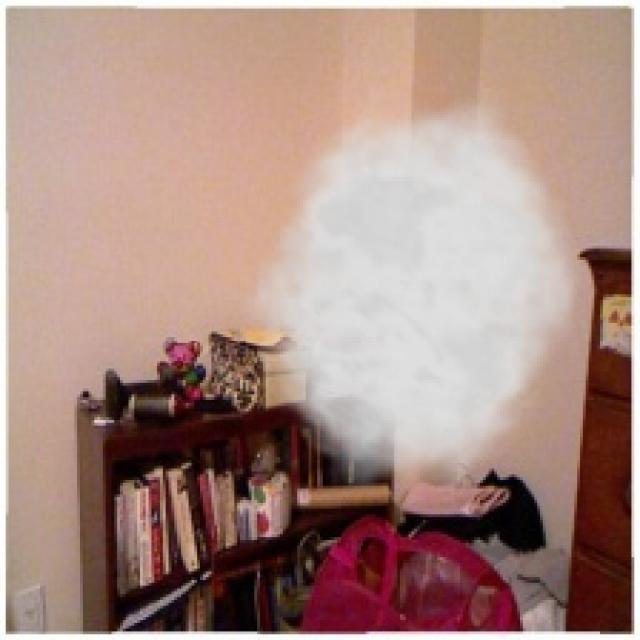Smoke: (237, 86, 589, 494)
